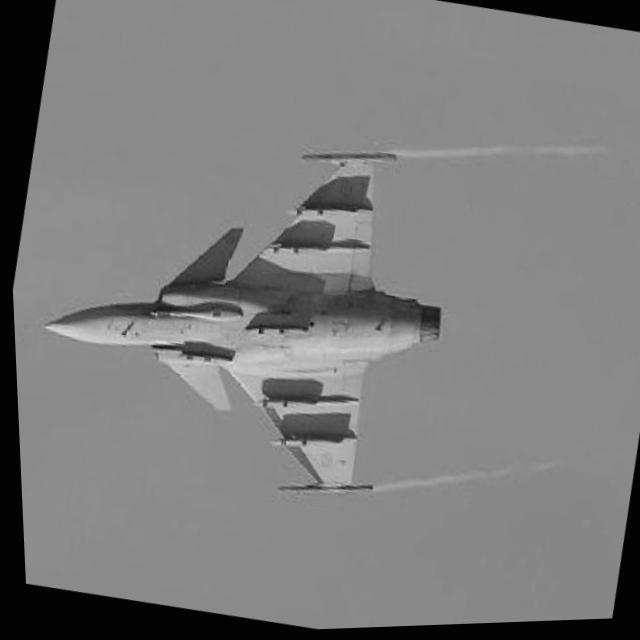aeroplane: (6, 95, 474, 529)
